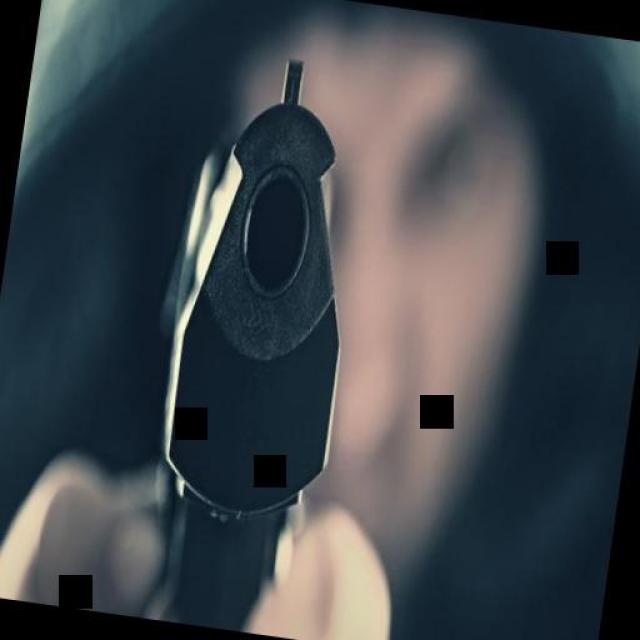gun: (132, 46, 378, 639)
